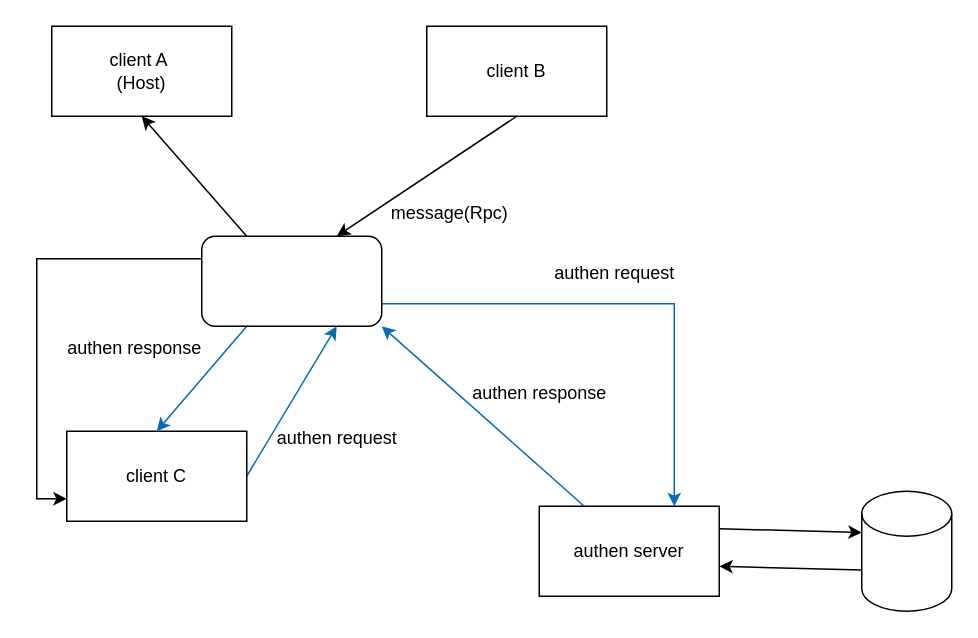
Some shapes in this 978 by 638 pixel diagram are drawn without their labels. The box of each missing label's shape, as (x1, y1, x2, y2) in pixels:
Database: (860, 490, 952, 611)
Relay server: (200, 235, 382, 326)
